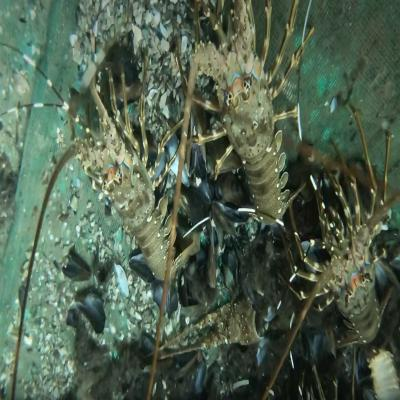lobster: (211, 22, 290, 215), (93, 110, 181, 278), (322, 201, 383, 348)
